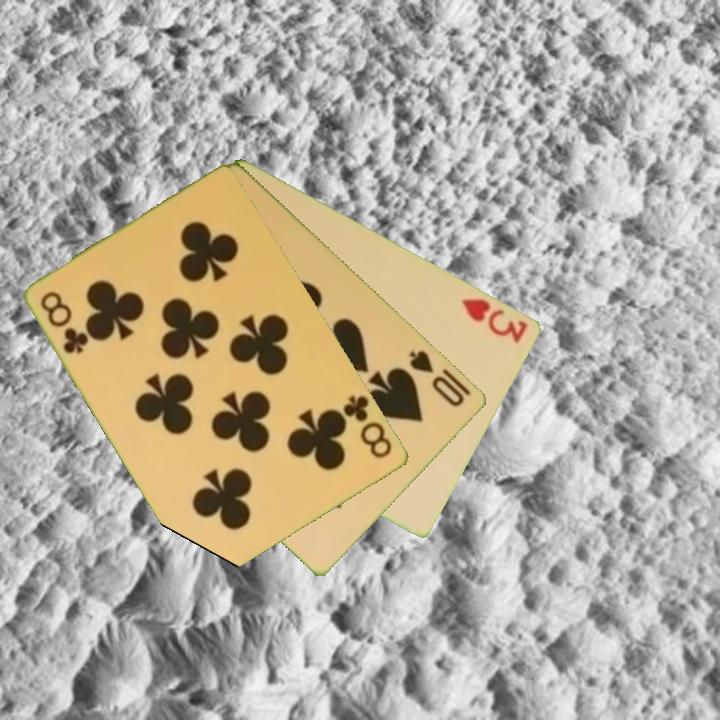10s: (406, 346, 468, 410)
3h: (458, 294, 531, 346)
8c: (339, 391, 396, 462), (37, 287, 92, 357)
